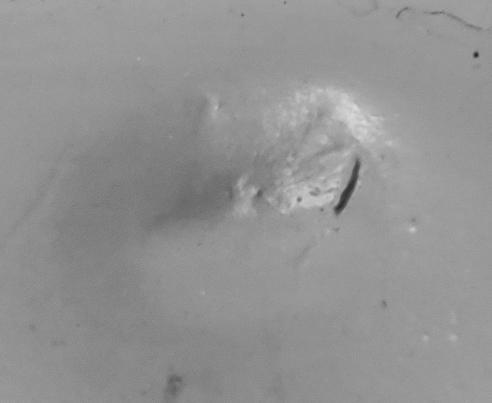dent: (1, 1, 492, 403)
